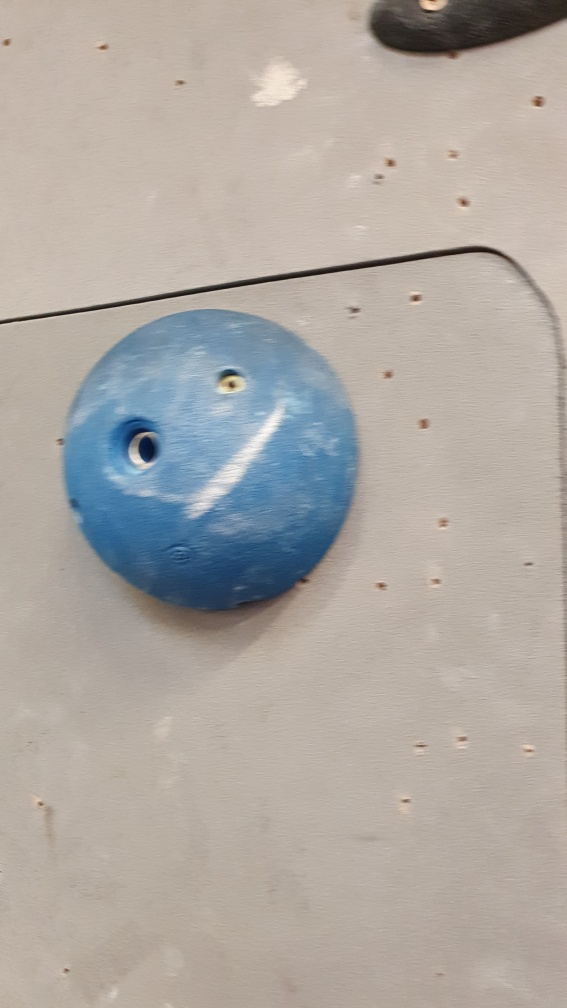Sloper: (55, 309, 370, 617)
